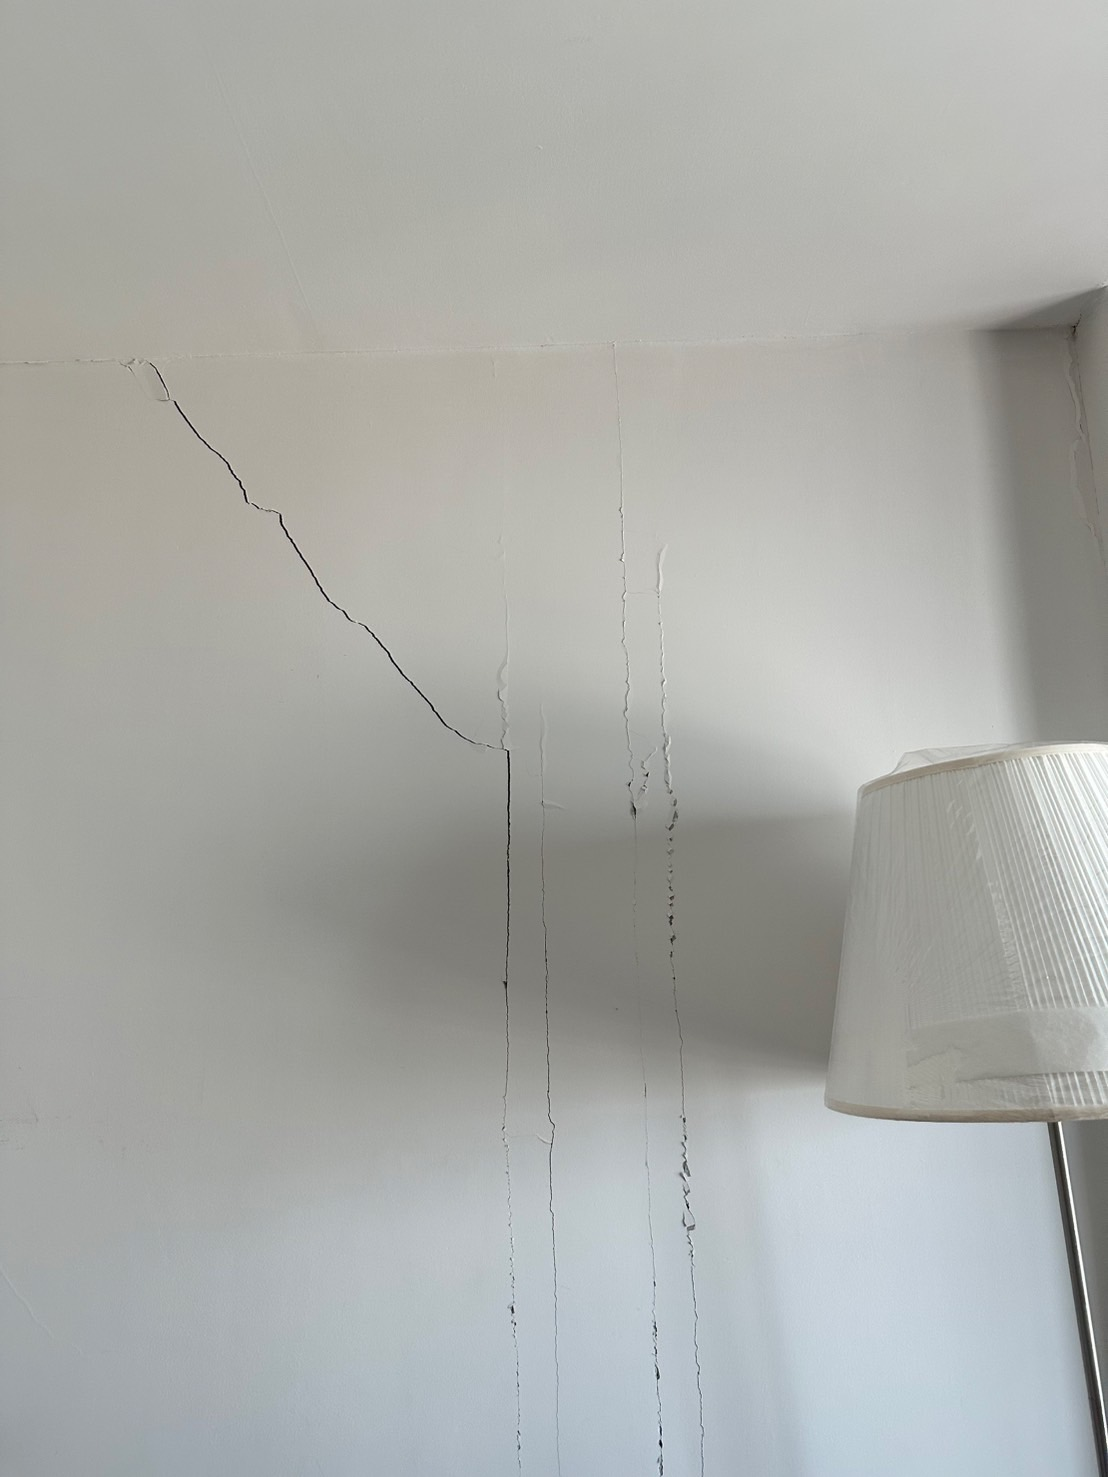Medium: (161, 388, 571, 843)
